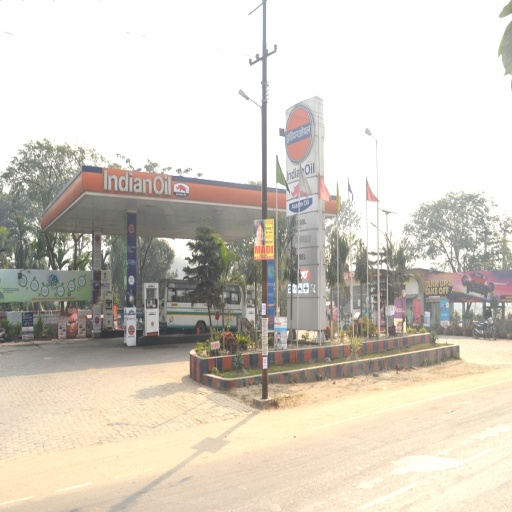roof: (41, 165, 343, 244)
